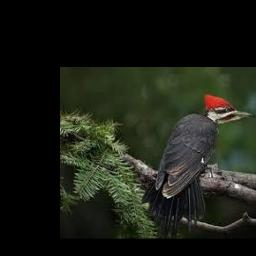Woodpecker: (143, 92, 254, 238)
